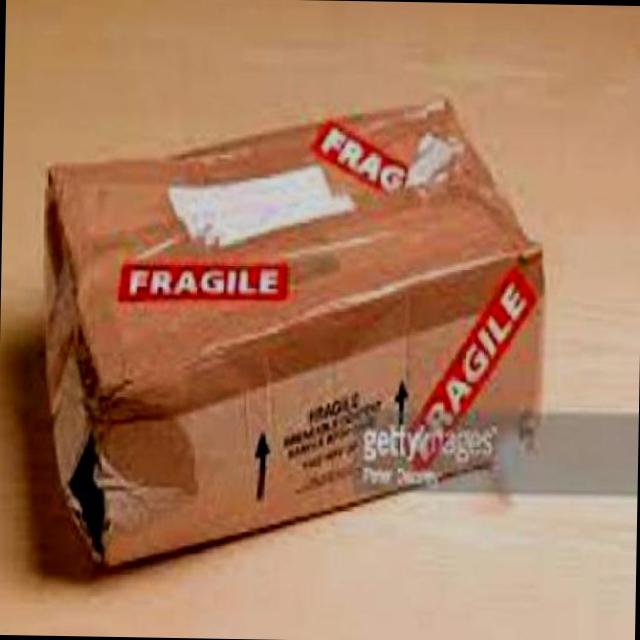box: (43, 94, 546, 570)
crushed: (133, 142, 266, 170)
tear: (59, 415, 118, 566)
